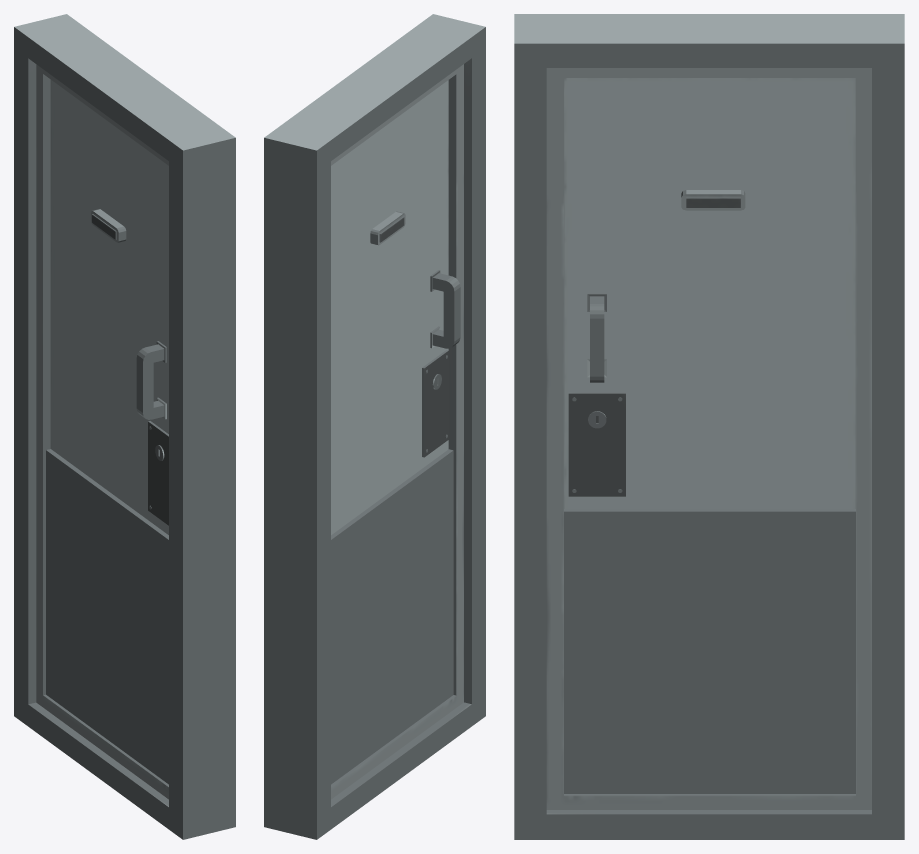
Rendered from door2.glb.
3 renders of one model, left to right at view 1: azimuth 30°, elevation 25°; view 2: azimuth 150°, elevation 25°; view 3: azimuth 270°, elevation 25°, orthographic. The views are drawn at different scales.
Visible parts, largest first — view 1: Cylinder.001; view 2: Cylinder.001; view 3: Cylinder.001.
Boxes of the visible parts, left/top/right/bottom form: Cylinder.001: left=14, top=14, right=235, bottom=839; Cylinder.001: left=264, top=14, right=485, bottom=839; Cylinder.001: left=514, top=14, right=904, bottom=839.
Bounding box in the file's own units: 0.4626 × 4.5 × 2.
2 materials, 2 textured.
